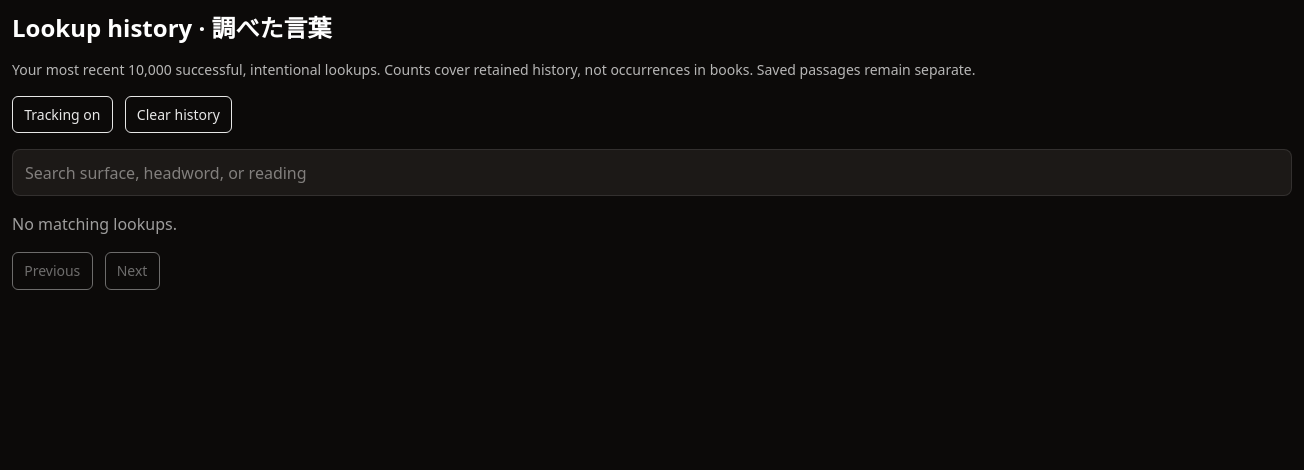
Test: ignores a stale search response and keeps unavailable history readable
Step 1. Type "新しい" into the field named "Search lookup history" → (652, 173), box x1=12 y1=149 x2=1292 y2=196
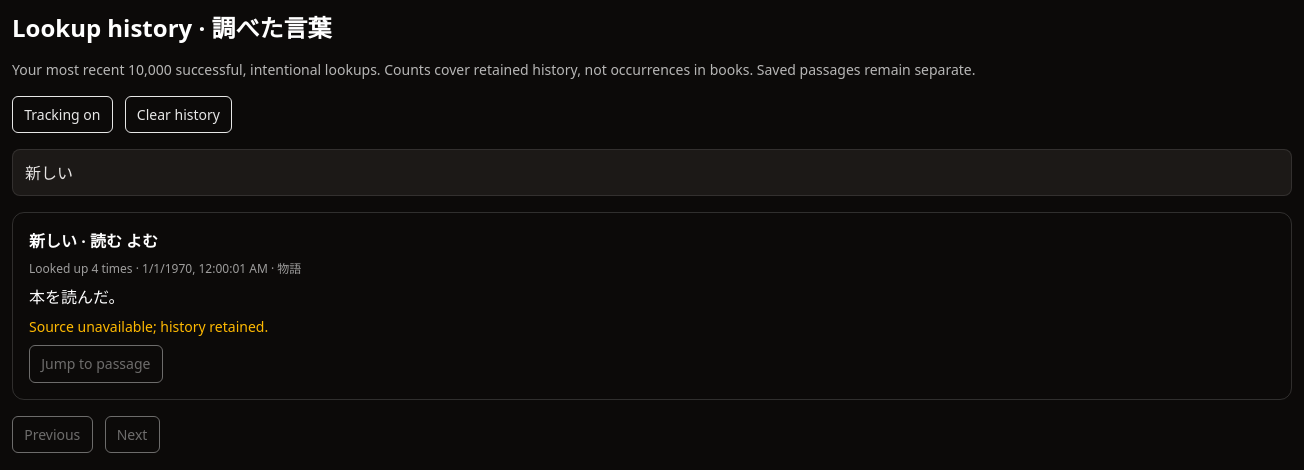
Result: the heading "新しい · 読む よむ" is shown at x1=29 y1=230 x2=158 y2=252
Result: the button "Jump to passage" is disabled at x1=29 y1=345 x2=163 y2=383
Result: the text "本を読んだ。" is shown at x1=29 y1=286 x2=124 y2=308
